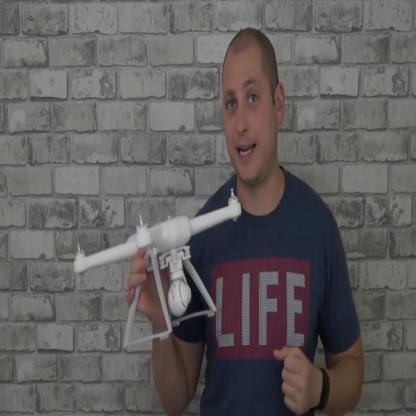drone: (70, 186, 247, 287)
